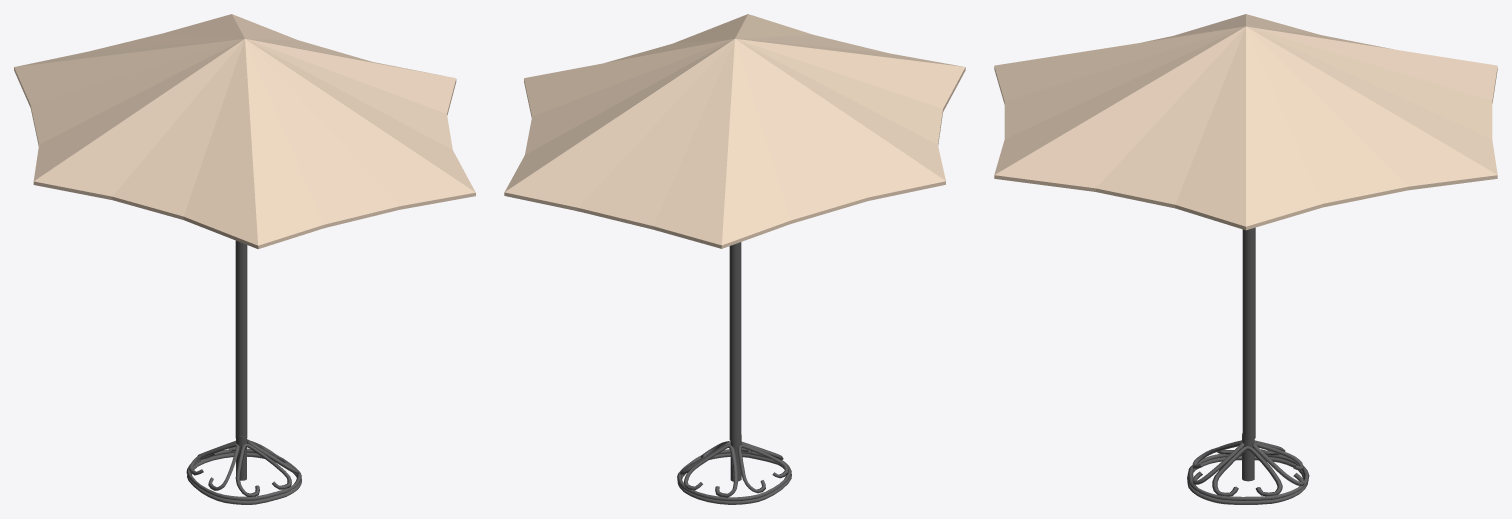
The model's file is sh-contrib-garden-umbrella.glb.
The picture shows the model from 3 angles, left to right: view 1: azimuth 30°, elevation 25°; view 2: azimuth 150°, elevation 25°; view 3: azimuth 270°, elevation 25°; orthographic projection. The views are drawn at different scales.
Visible parts, largest first — view 1: Umbrella, Tube_1, PolyMesh_1; view 2: Umbrella, Tube_1, PolyMesh_1; view 3: Umbrella, Tube_1, PolyMesh_1.
Boxes of the visible parts, left/top/right/bottom form: Umbrella: left=14, top=14, right=475, bottom=249; Tube_1: left=186, top=439, right=301, bottom=504; PolyMesh_1: left=235, top=240, right=247, bottom=480; Umbrella: left=504, top=14, right=965, bottom=248; Tube_1: left=677, top=441, right=791, bottom=504; PolyMesh_1: left=729, top=242, right=741, bottom=481; Umbrella: left=994, top=14, right=1497, bottom=230; Tube_1: left=1187, top=440, right=1309, bottom=504; PolyMesh_1: left=1242, top=227, right=1255, bottom=481.
Bounding box in the file's own units: 1 × 1 × 1.
